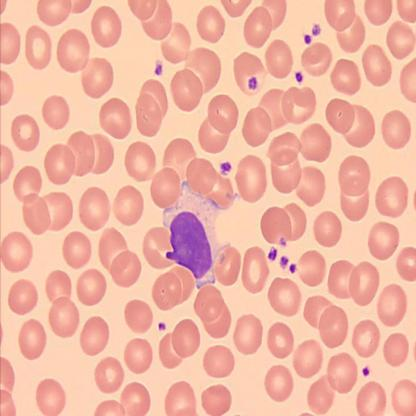Atypical lymphocyte: (163, 181, 232, 288)
